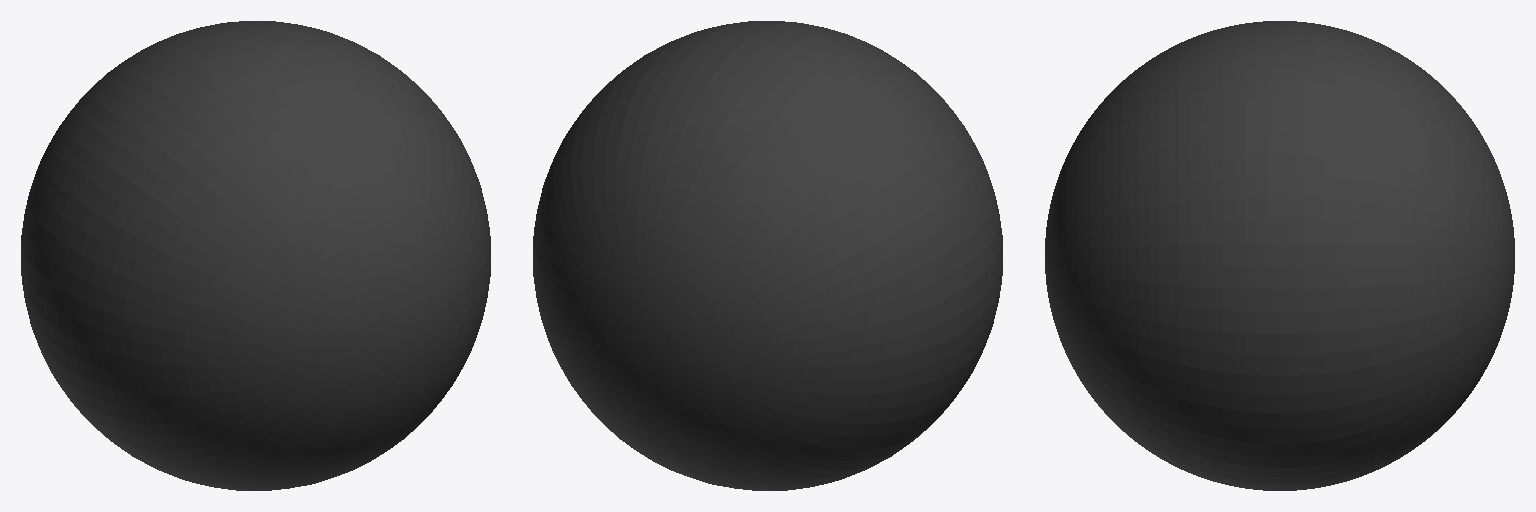
File: moon.obj
3 renders of one model, left to right at view 1: azimuth 30°, elevation 25°; view 2: azimuth 150°, elevation 25°; view 3: azimuth 270°, elevation 25°, orthographic.
Parts seen in each view (by area): view 1: Plane; view 2: Plane; view 3: Plane.
Boxes of the visible parts, x1=… form: Plane: x1=21, y1=21, x2=490, y2=490; Plane: x1=533, y1=21, x2=1002, y2=490; Plane: x1=1045, y1=21, x2=1514, y2=490.
Size of the model in its own units: 5.21 by 5.21 by 5.21.